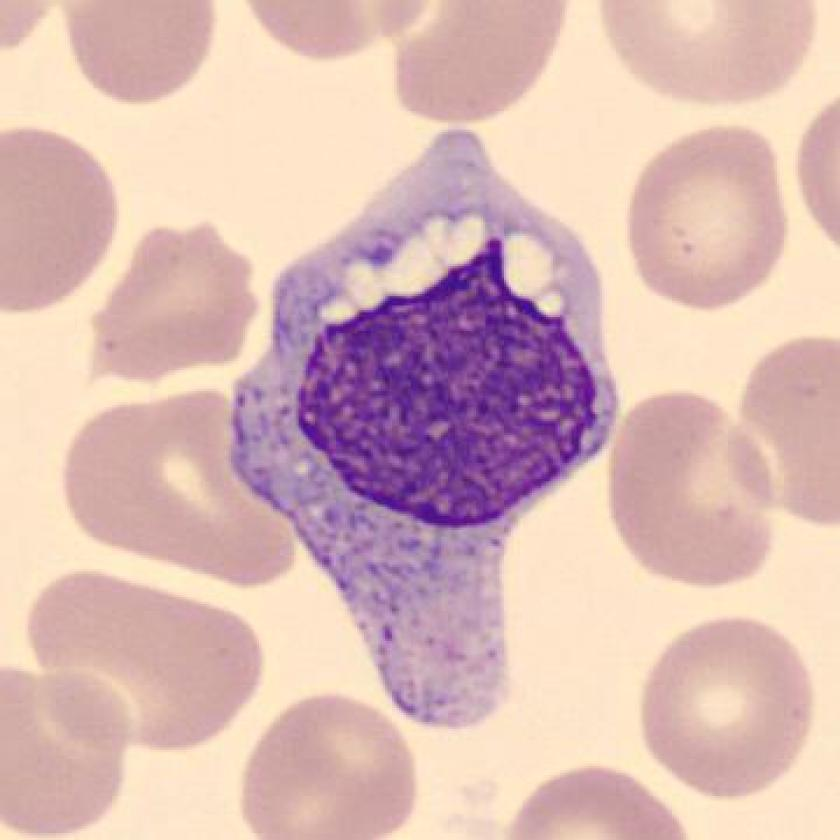monocyte: (209, 103, 636, 744)
